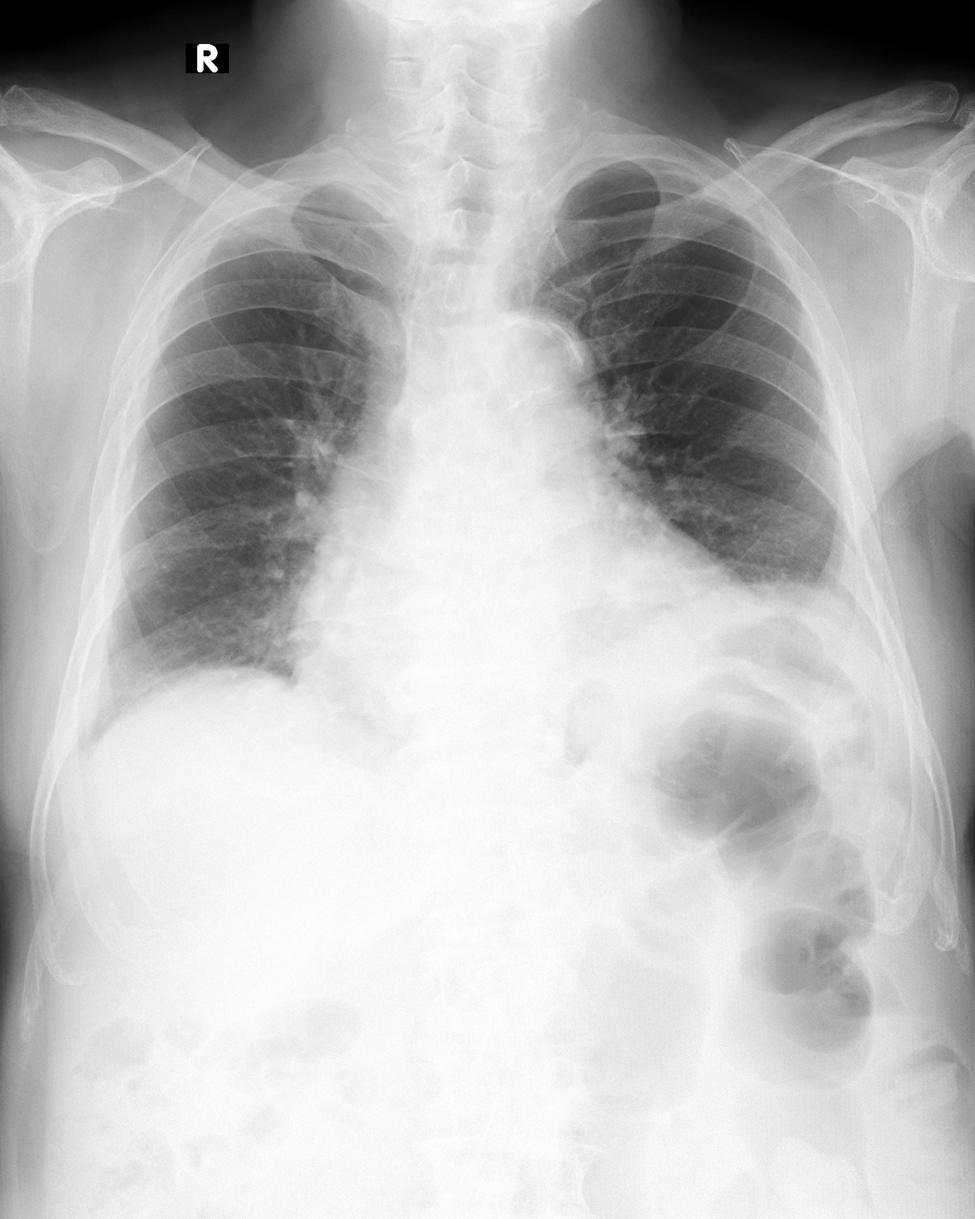Aortic enlargement: (476, 316, 604, 460)
Cardiomegaly: (278, 561, 751, 779)
